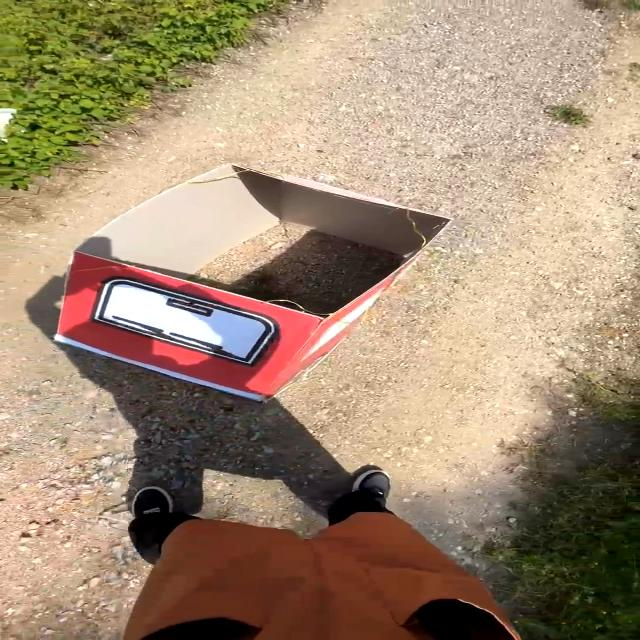red_car: (42, 149, 459, 408)
